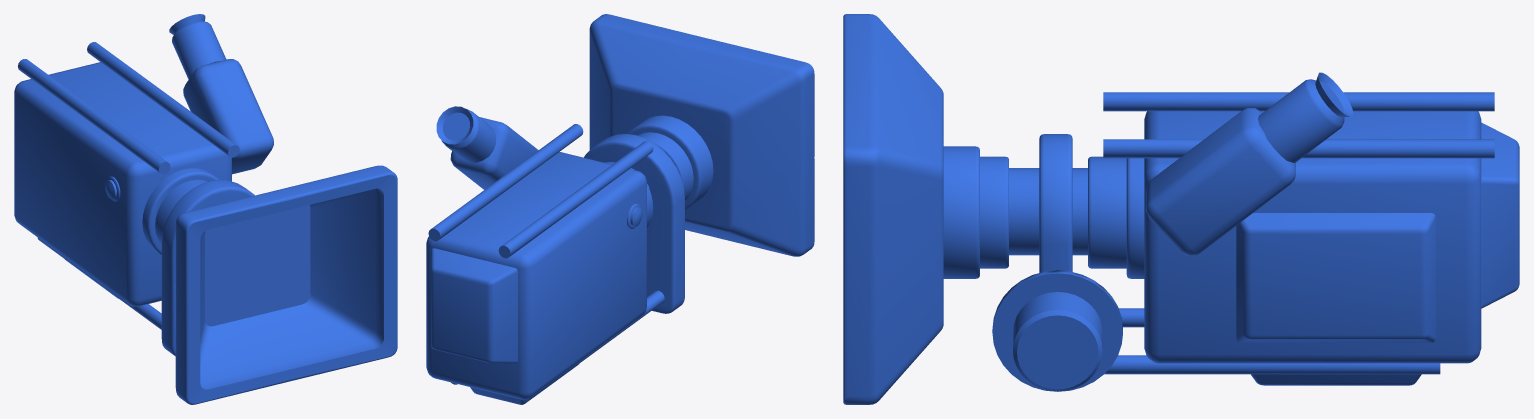
File: UE4Camera.glb
3 views of the same model, side by side, from view 1: azimuth 30°, elevation 25°; view 2: azimuth 150°, elevation 25°; view 3: azimuth 270°, elevation 25° (orthographic). The views are drawn at different scales.
Parts seen in each view (by area): view 1: MatineeCam_SM_2; view 2: MatineeCam_SM_2; view 3: MatineeCam_SM_2.
Boxes of the visible parts, x1,y1,x2,y2 form: MatineeCam_SM_2: [14, 14, 397, 404]; MatineeCam_SM_2: [426, 14, 814, 404]; MatineeCam_SM_2: [843, 14, 1519, 404].
Bounding box in the file's own units: 0.4802 × 0.5352 × 0.9562.
